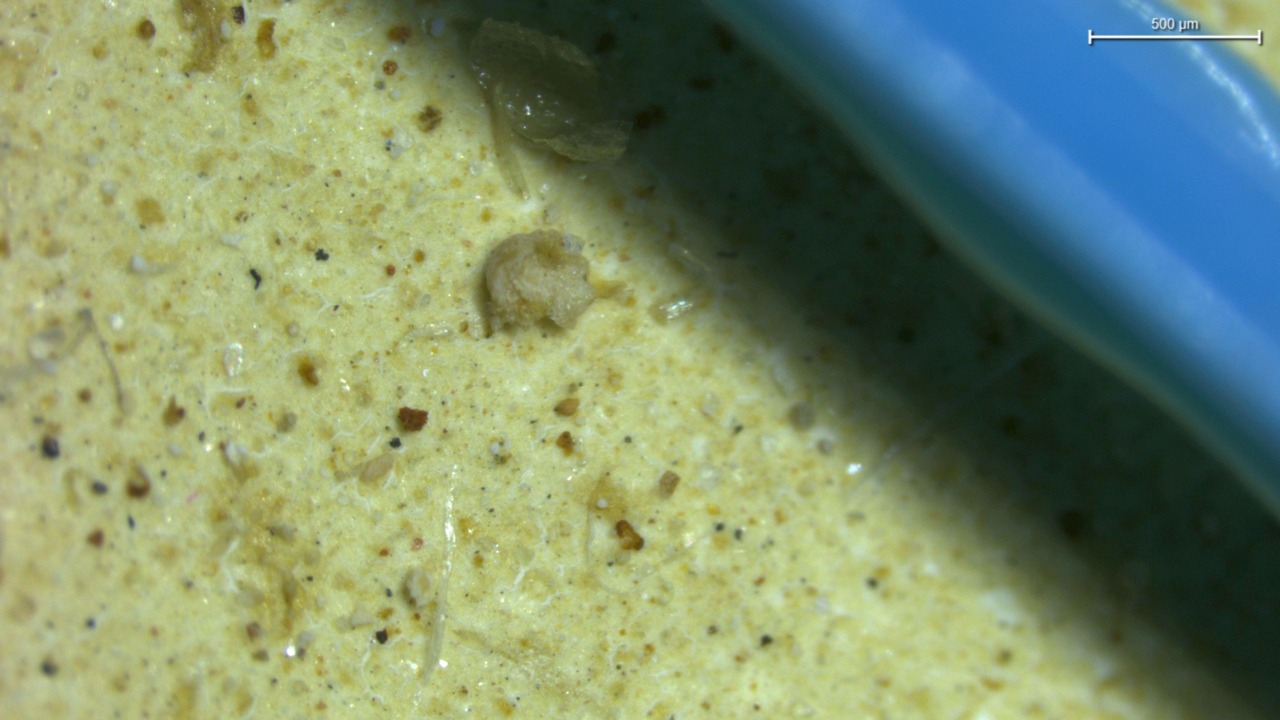microplastic_fragment: (459, 21, 632, 171), (479, 232, 596, 331)
